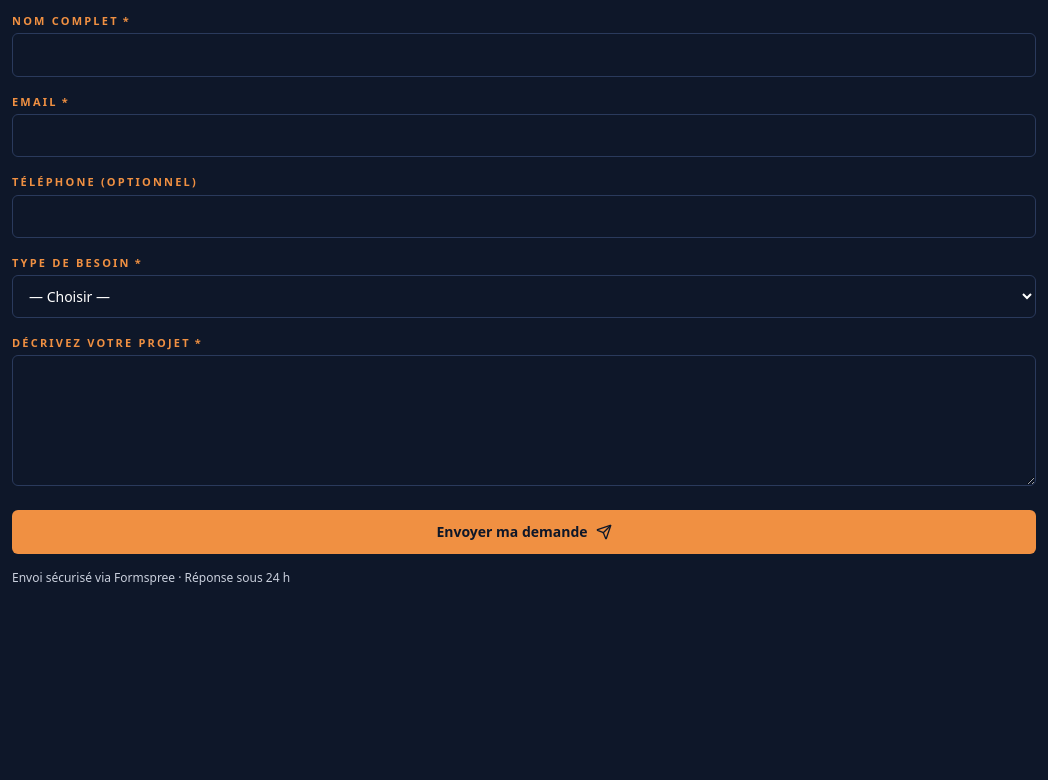
Test case: ContactForm › blocks submission when name is empty
The image size is (1048, 780).
Click the button "Envoyer ma demande" at {"x": 524, "y": 532}, box [12,510,1036,554]
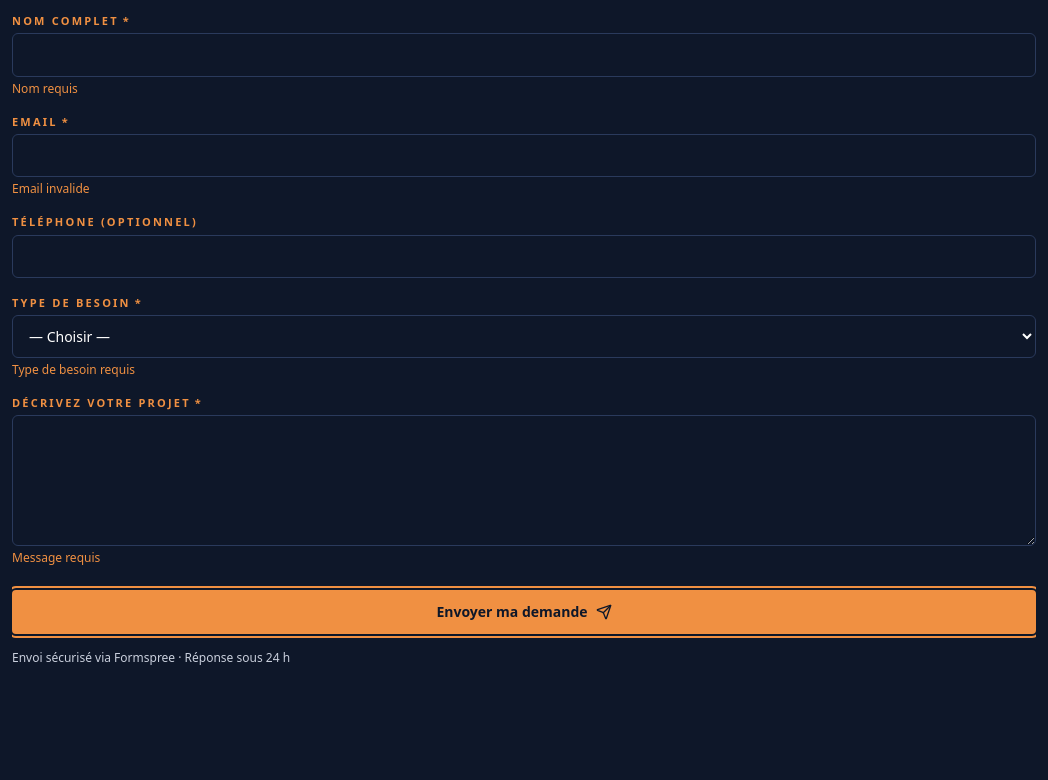
Result: the text "Nom requis" is shown at [12,80,78,97]
